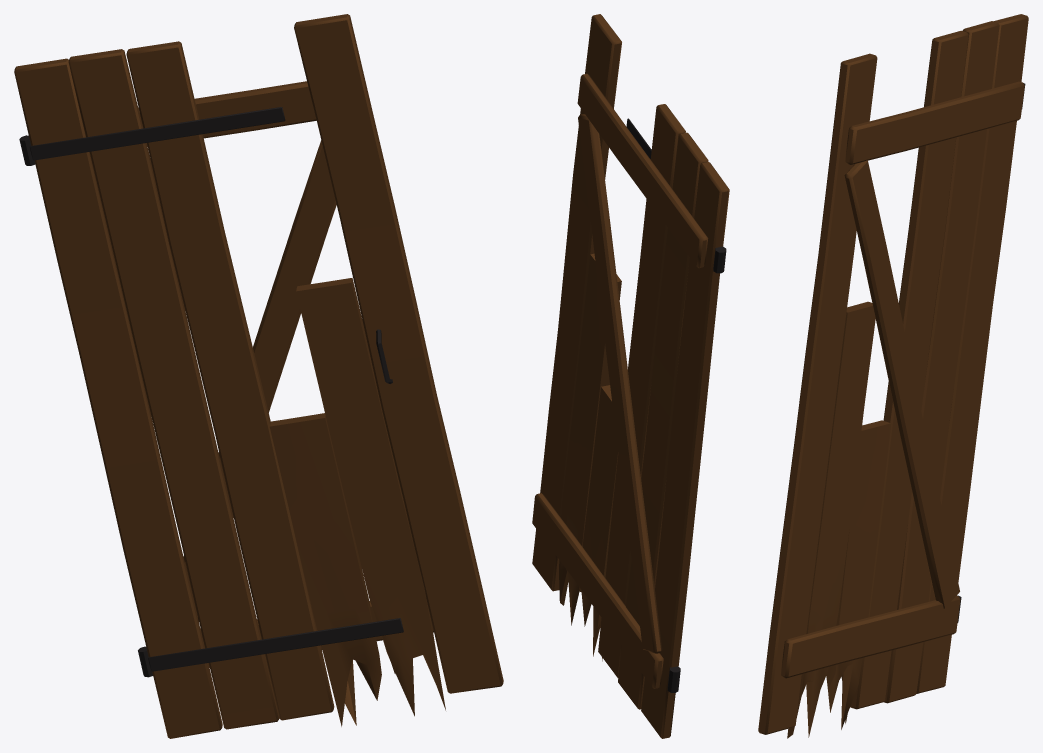
The model's file is tuer_kaputt.glb.
3 views of the same model, side by side, from view 1: azimuth 30°, elevation 25°; view 2: azimuth 150°, elevation 25°; view 3: azimuth 270°, elevation 25° (orthographic). The views are drawn at different scales.
Parts seen in each view (by area): view 1: tuer_kaputt; view 2: tuer_kaputt; view 3: tuer_kaputt.
Boxes of the visible parts, x1,y1,x2,y2 form: tuer_kaputt: (14, 14, 503, 738); tuer_kaputt: (532, 14, 729, 738); tuer_kaputt: (758, 14, 1028, 738).
Bounding box in the file's own units: 1.15 × 2.28 × 0.8188.
